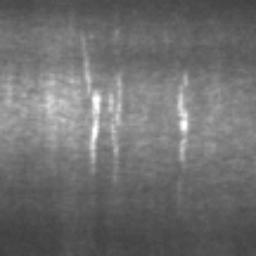White rust: (90, 91, 102, 151), (178, 93, 188, 132)
